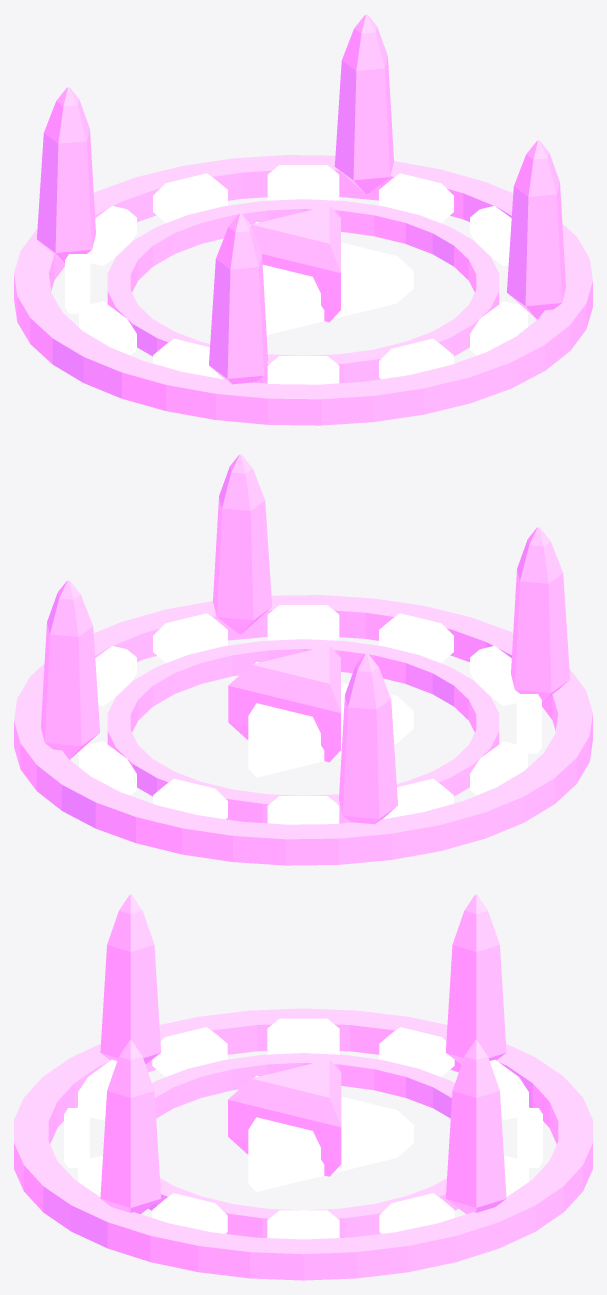
Rendered from vfx-mesh-library-summoning-circle-87f01a9b__21898.glb.
3 renders of one model, top to bottom at view 1: azimuth 30°, elevation 25°; view 2: azimuth 150°, elevation 25°; view 3: azimuth 270°, elevation 25°, orthographic.
Visible parts, largest first — view 1: summoning-circle; view 2: summoning-circle; view 3: summoning-circle.
Boxes of the visible parts, x1,y1,x2,y2 form: summoning-circle: [14, 14, 592, 425]; summoning-circle: [14, 454, 592, 865]; summoning-circle: [14, 894, 592, 1280].
Size of the model in its own units: 1 by 0.36 by 0.9957.
